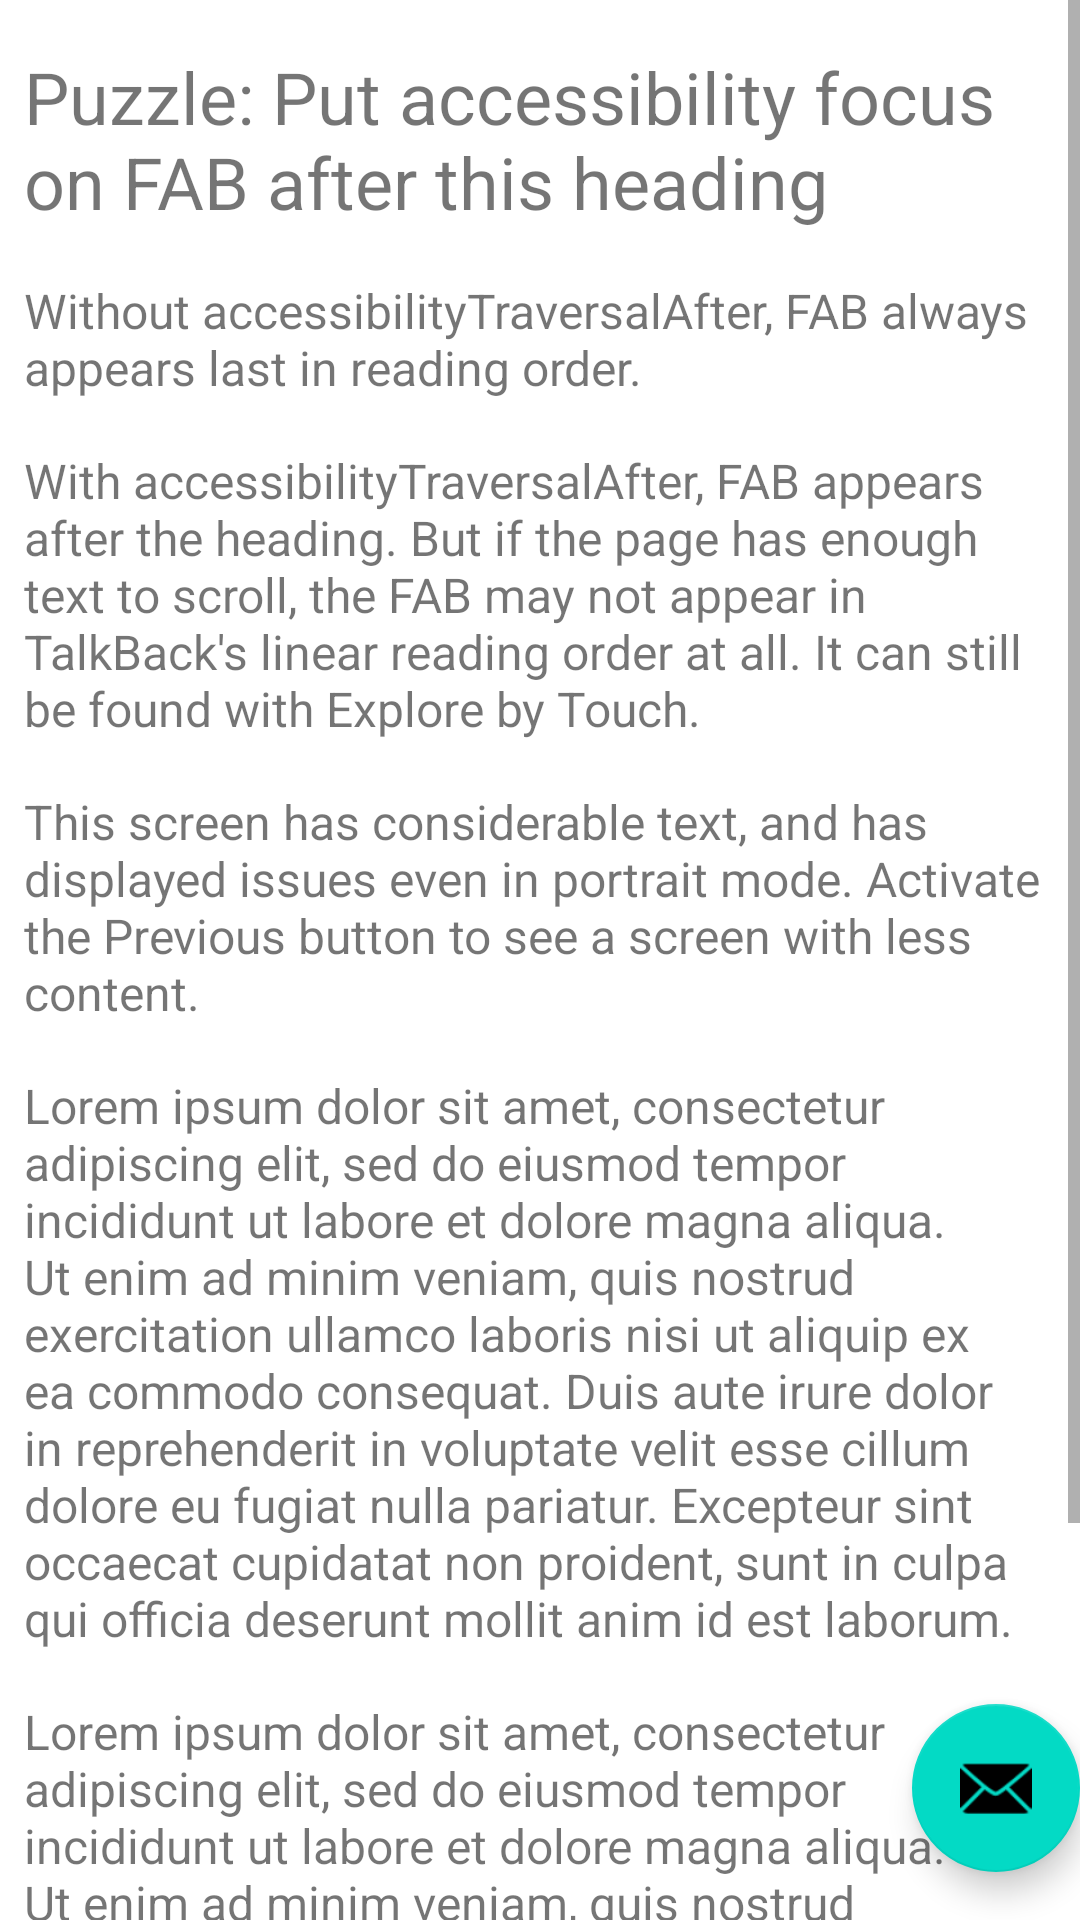

Screen size 1080px x 1920px. Icon name, then its center in pixels as point (x, y):
Compose message: point (996, 1788)
